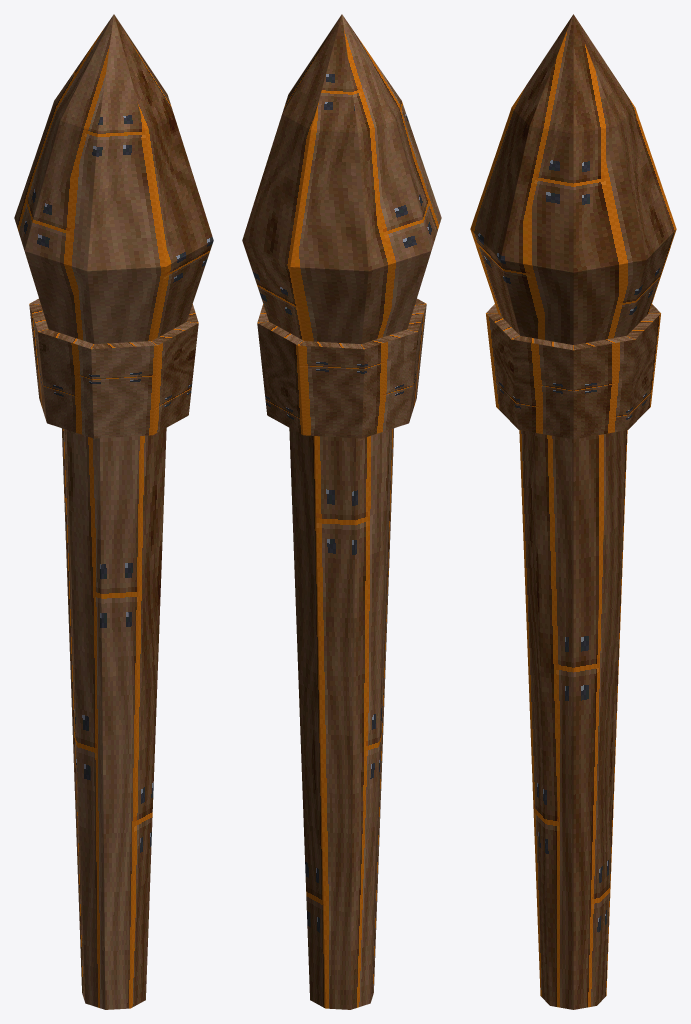
File: prisao_tocha_acesa.glb
3 renders of one model, left to right at view 1: azimuth 30°, elevation 25°; view 2: azimuth 150°, elevation 25°; view 3: azimuth 270°, elevation 25°, orthographic.
Parts seen in each view (by area): view 1: prisao_tocha_acesa; view 2: prisao_tocha_acesa; view 3: prisao_tocha_acesa.
Part boxes in pixels (x1,y1,x2,y2): prisao_tocha_acesa: (14,14,213,1009); prisao_tocha_acesa: (242,14,441,1009); prisao_tocha_acesa: (470,14,676,1009).
Size of the model in its own units: 0.2 by 1.05 by 0.2.
1 material, 1 textured.
